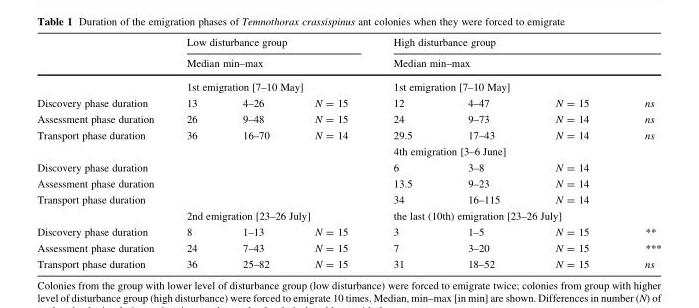table: (36, 37, 660, 269)
table column: (36, 37, 169, 269), (527, 37, 616, 269), (439, 37, 527, 269), (291, 37, 370, 269), (219, 37, 291, 269), (370, 37, 439, 269), (169, 37, 219, 269), (616, 37, 660, 269)
table column header: (36, 37, 660, 111)
table row: (36, 52, 660, 75), (36, 75, 660, 95), (36, 223, 660, 240), (36, 95, 660, 111), (36, 111, 660, 127), (36, 127, 660, 143), (36, 143, 660, 159), (36, 159, 660, 175), (36, 175, 660, 191), (36, 191, 660, 207), (36, 207, 660, 223), (36, 240, 660, 256), (36, 37, 660, 52), (36, 256, 660, 269)
table spanning cell: (169, 37, 370, 95), (370, 37, 660, 75), (36, 37, 169, 111), (370, 75, 616, 95), (36, 191, 169, 223), (370, 143, 616, 159), (370, 207, 616, 223), (169, 207, 370, 223), (616, 75, 660, 111)
